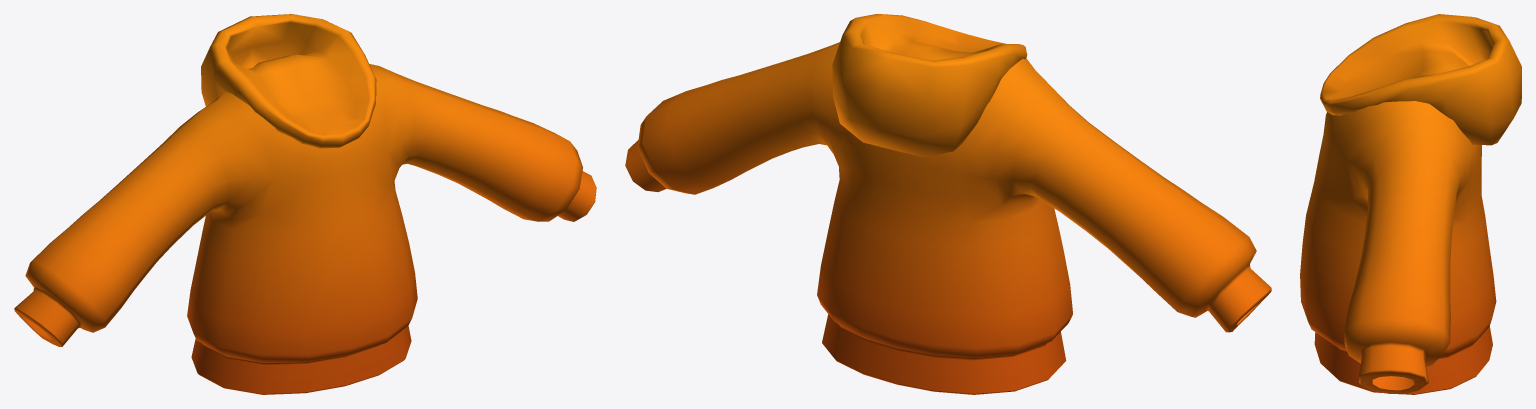
The model's file is outwear_036.glb.
The picture shows the model from 3 angles, left to right: view 1: azimuth 30°, elevation 25°; view 2: azimuth 150°, elevation 25°; view 3: azimuth 270°, elevation 25°; orthographic projection. The views are drawn at different scales.
Visible parts, largest first — view 1: Outerwear_036; view 2: Outerwear_036; view 3: Outerwear_036.
Part boxes in pixels (x1,y1,x2,y2): Outerwear_036: [14, 14, 596, 394]; Outerwear_036: [625, 14, 1271, 394]; Outerwear_036: [1300, 14, 1521, 394].
Bounding box in the file's own units: 1.24 × 0.6345 × 0.4151.
1 material, 1 textured.
